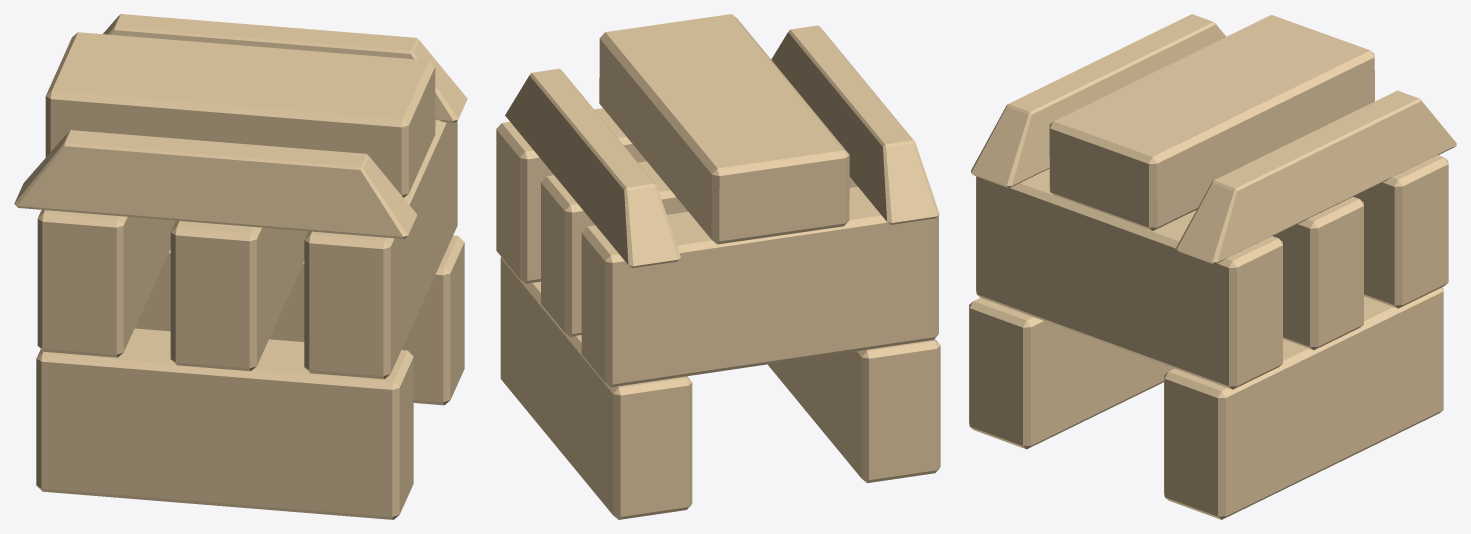
The picture shows the model from 3 angles, left to right: view 1: azimuth 30°, elevation 25°; view 2: azimuth 150°, elevation 25°; view 3: azimuth 270°, elevation 25°; orthographic projection. The views are drawn at different scales.
Visible parts, largest first — view 1: sub_1_intact; view 2: sub_1_intact; view 3: sub_1_intact.
Part boxes in pixels (x1,y1,x2,y2): sub_1_intact: (14, 14, 467, 519); sub_1_intact: (496, 14, 940, 519); sub_1_intact: (969, 14, 1456, 519).
Bounding box in the file's own units: 12.49 × 9.43 × 12.52.
